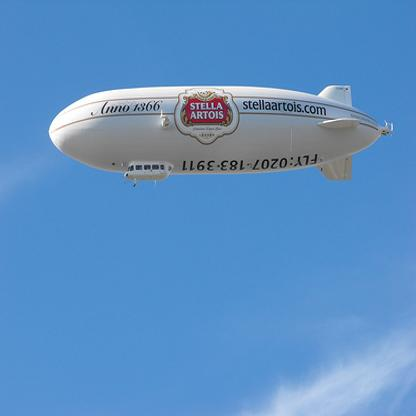Airship: (44, 81, 402, 190)
